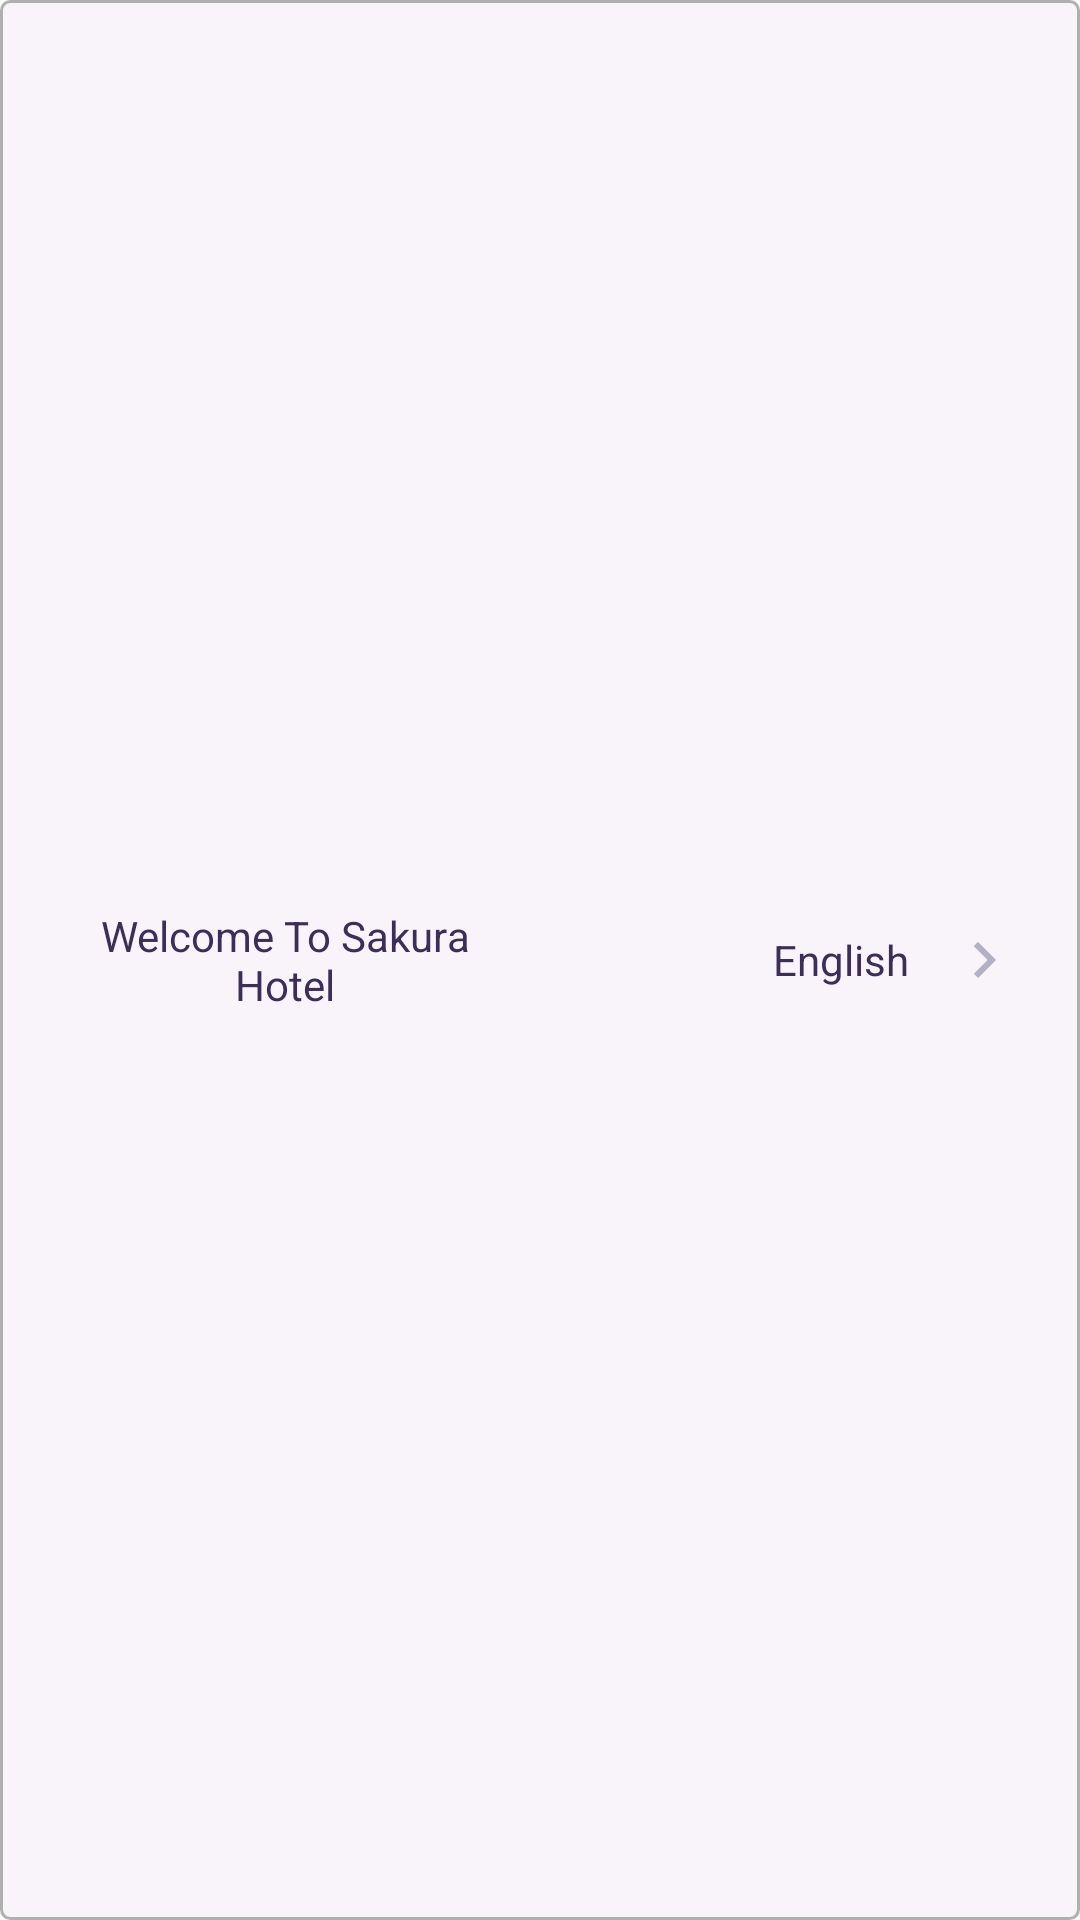

Where icons sit on this 1080×1920 app screen, as (x1, y1, x2, y2):
chevron right: (974, 942, 996, 978)
